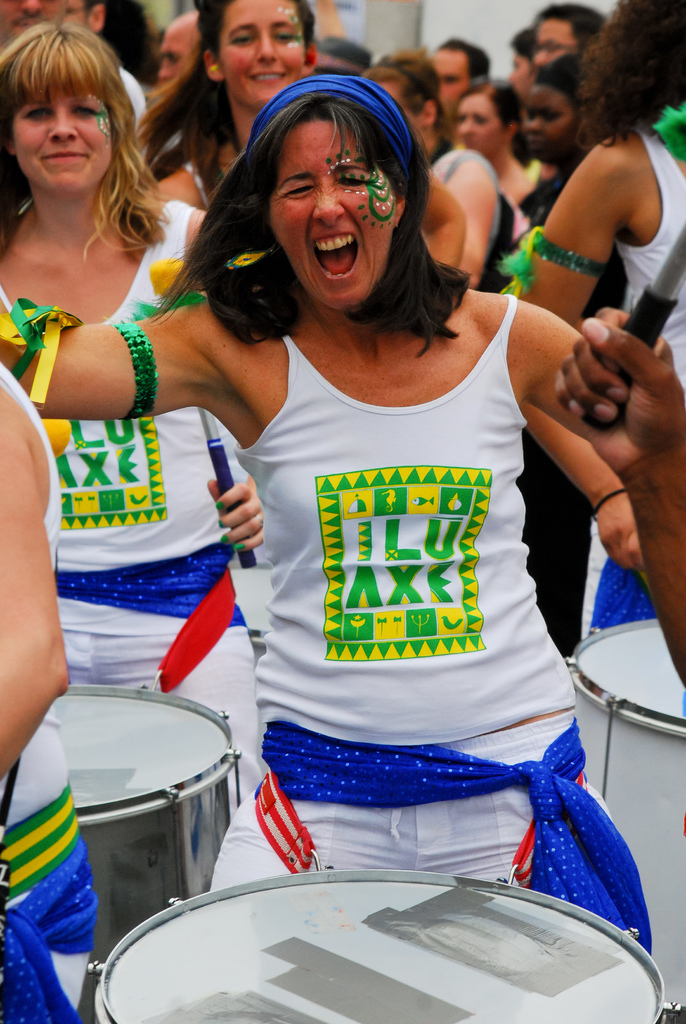person: (520, 3, 610, 86)
